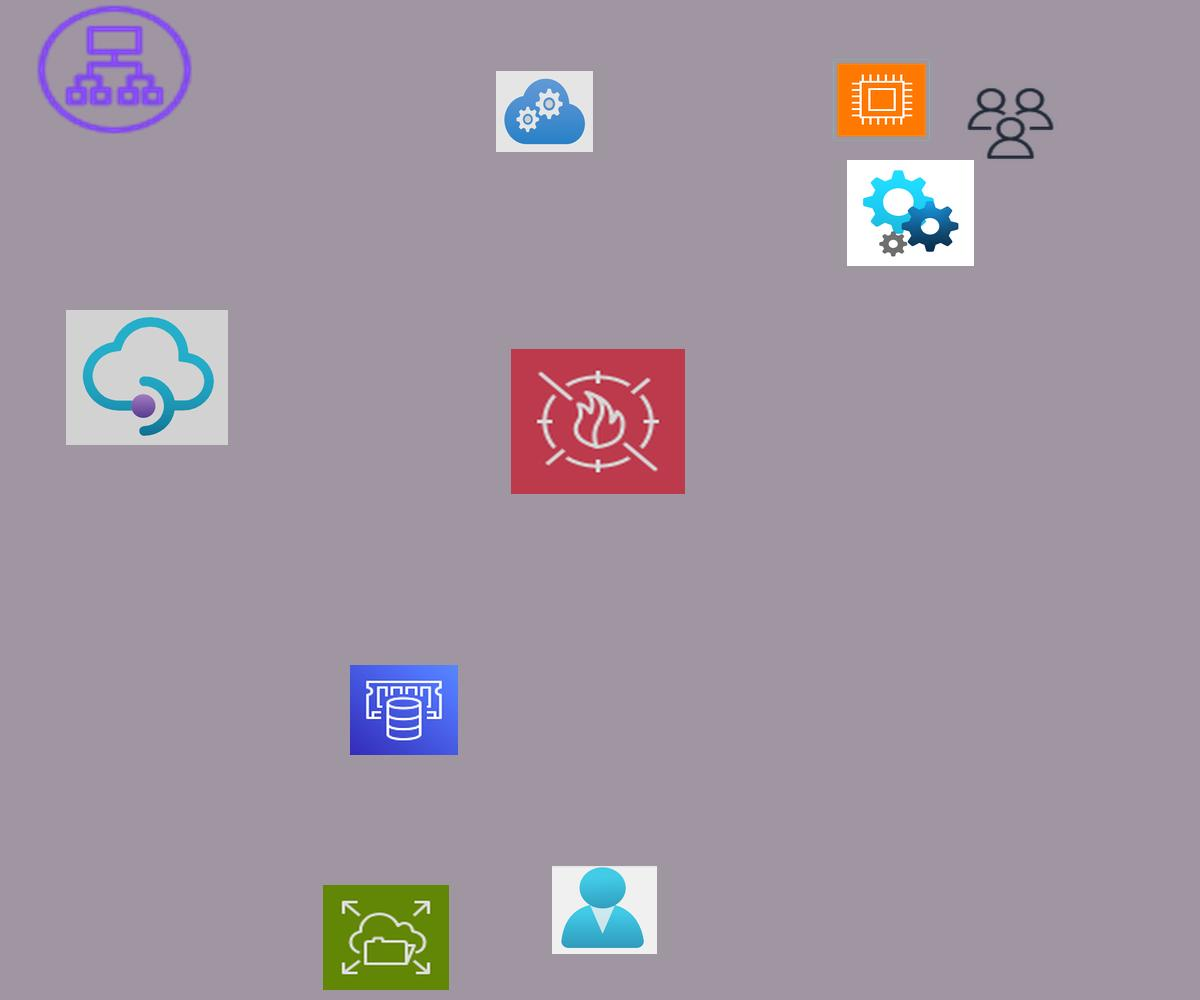AWS-Category_Compute: (832, 59, 931, 141)
AWS-EFS: (323, 885, 449, 990)
AWS-ElastiCache: (350, 665, 458, 755)
AWS-Res_Elastic-Load-Balancing_Application-Load-Balancer: (31, 0, 198, 139)
AWS-Res_Users: (964, 85, 1057, 162)
AWS-WAF: (511, 349, 685, 494)
Azure_api: (847, 160, 974, 266)
Azure_api_gateway: (66, 310, 228, 445)
Azure_cloud_services: (496, 71, 593, 152)
Azure_users: (552, 866, 657, 954)
